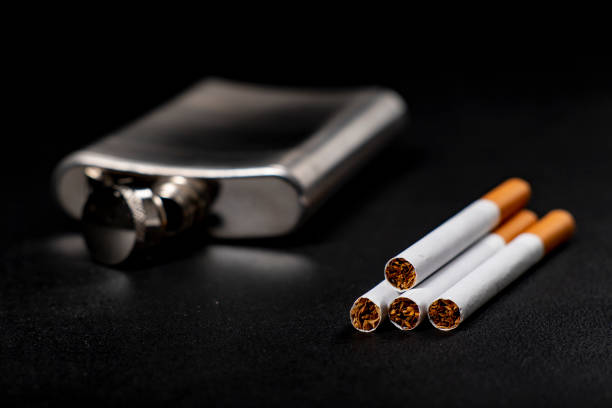cigarette: (386, 207, 537, 333), (425, 208, 575, 331), (384, 175, 533, 292), (349, 277, 401, 334)
